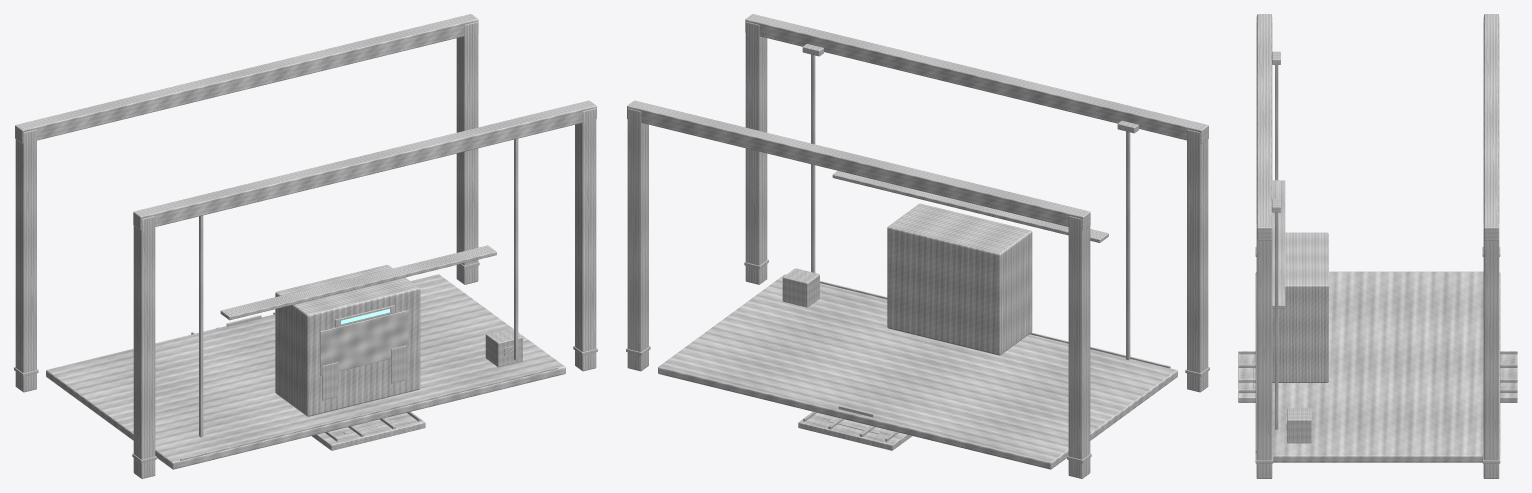
The model's file is train_station_variant_a.glb.
The picture shows the model from 3 angles, left to right: view 1: azimuth 30°, elevation 25°; view 2: azimuth 150°, elevation 25°; view 3: azimuth 270°, elevation 25°; orthographic projection. The views are drawn at different scales.
Visible parts, largest first — view 1: Raised service platform, Control module.001, Roof cross beam.001, Roof cross beam, Main support column, Main support column.001, Main support column.002, Main support column.003, Control room glazing.001, Platform service canopy, Track bed, Platform edge marking (+3 smaller); view 2: Raised service platform, Control module.001, Roof cross beam.001, Roof cross beam, Main support column.001, Main support column, Main support column.003, Main support column.002, Platform service canopy, Track bed, Power connection housing, Platform light mast (+1 smaller); view 3: Raised service platform, Control module.001, Main support column.002, Main support column.003, Roof cross beam, Roof cross beam.001, Platform service canopy, Track bed, Power connection housing, Platform light mast.001, Platform light mast, Main support column.001 (+2 smaller).
Part boxes in pixels (x1,y1,x2,y2): Raised service platform: (46,274,565,469); Control module.001: (275,265,420,416); Roof cross beam.001: (15,14,478,143); Roof cross beam: (133,100,596,230); Main support column: (133,216,155,478); Main support column.001: (15,129,36,392); Main support column.002: (575,108,596,371); Main support column.003: (456,21,478,284); Control room glazing.001: (320,310,408,375); Platform service canopy: (220,245,496,320); Track bed: (311,413,425,450); Platform edge marking: (180,366,558,460); Raised service platform: (658,274,1177,469); Control module.001: (887,203,1032,355); Roof cross beam.001: (627,100,1090,230); Roof cross beam: (745,14,1208,143); Main support column.001: (1068,216,1090,478); Main support column: (1187,129,1208,392); Main support column.003: (627,108,648,371); Main support column.002: (745,21,767,284); Platform service canopy: (832,171,1108,242); Track bed: (798,413,912,450); Power connection housing: (782,268,819,307); Platform light mast: (1126,131,1130,360); Raised service platform: (1255,271,1500,462); Control module.001: (1272,232,1328,382); Main support column.002: (1256,223,1272,478); Main support column.003: (1483,223,1499,478); Roof cross beam: (1257,14,1271,240); Roof cross beam.001: (1484,14,1498,240); Platform service canopy: (1272,180,1285,308); Track bed: (1238,354,1517,402); Power connection housing: (1287,408,1311,443); Platform light mast.001: (1275,212,1278,429); Platform light mast: (1275,65,1278,180); Main support column.001: (1483,17,1499,223).
Size of what is drawn, in the model's own units: 29 by 16.45 by 16.
Materials: 7 (7 with a texture image).
